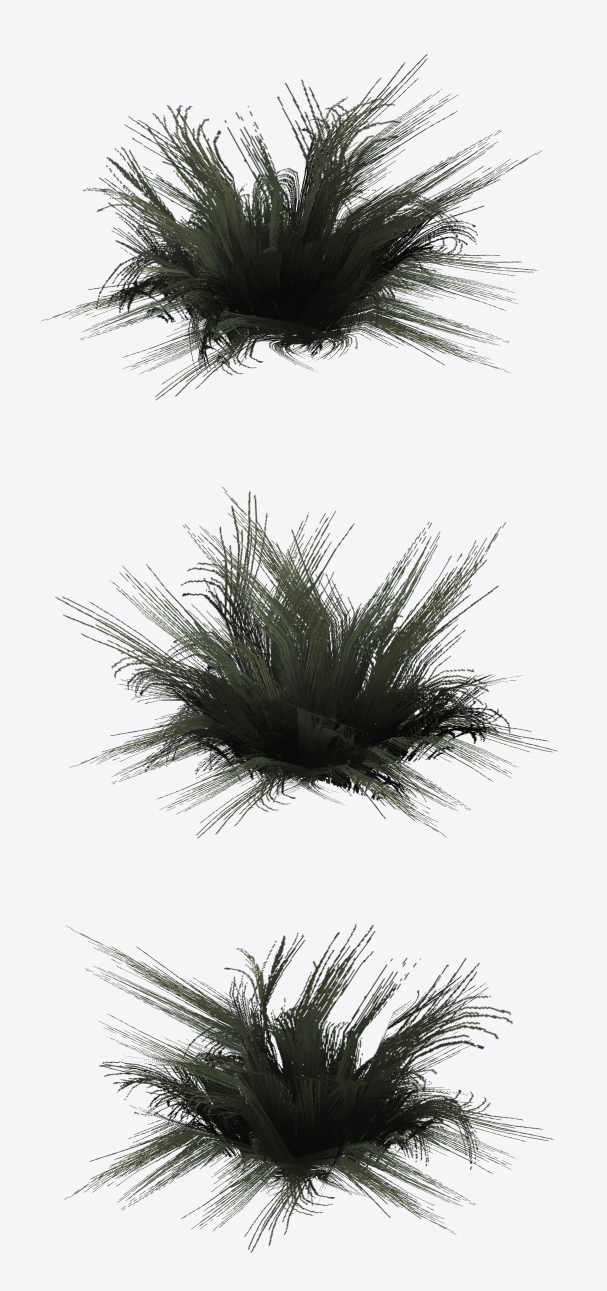
Rendered from Grass_D.glb.
3 renders of one model, top to bottom at view 1: azimuth 30°, elevation 25°; view 2: azimuth 150°, elevation 25°; view 3: azimuth 270°, elevation 25°, orthographic. The views are drawn at different scales.
Visible parts, largest first — view 1: D_LOD0; view 2: D_LOD0; view 3: D_LOD0.
Part boxes in pixels (bbox=[...]): D_LOD0: bbox=[41, 53, 542, 400]; D_LOD0: bbox=[55, 487, 557, 838]; D_LOD0: bbox=[64, 924, 553, 1252].
Size of what is drawn, in the model's own units: 0.9654 by 0.4014 by 0.9737.
Materials: 1 (1 with a texture image).
